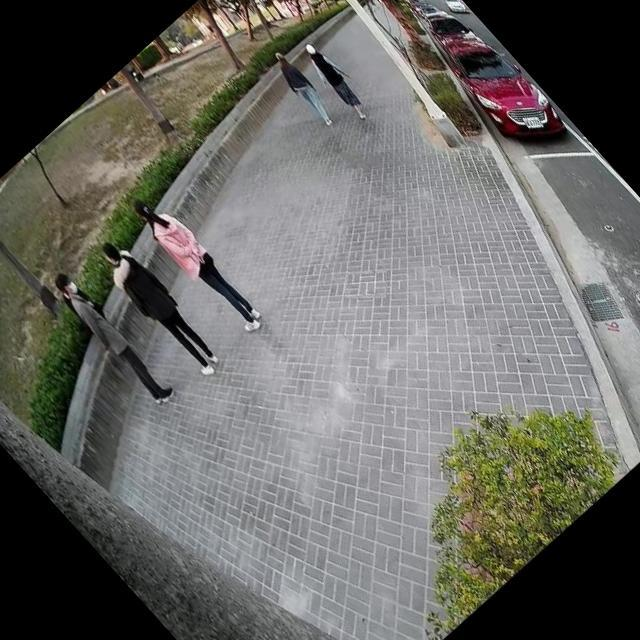person: (120, 180, 273, 344), (82, 226, 232, 386), (40, 260, 182, 412), (286, 28, 382, 129), (258, 41, 345, 134)
